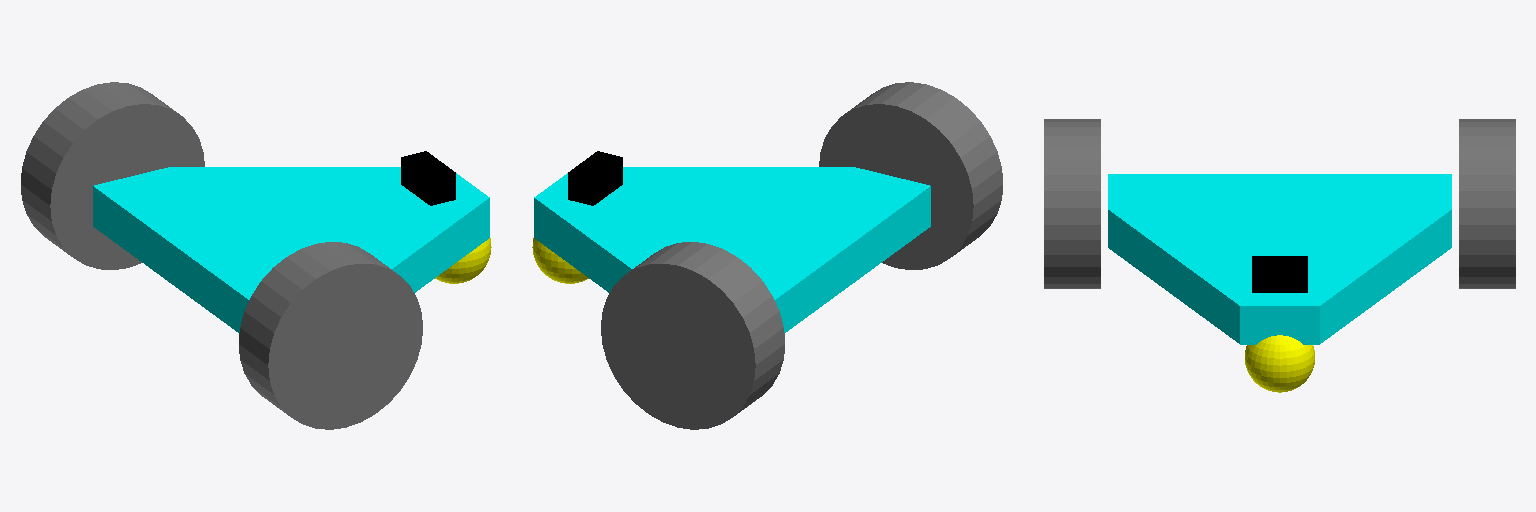
The robot description file, URDF, robot "qbot":
<?xml version="1.0"?>
<robot name="qbot">

  <!-- Define robot constants -->
  <!-- x-axis points forward, y-axis points to left, z-axis points upwards -->

  <!-- Robot Base -->
  <link name="base_link">
    <visual>
      <origin xyz="0 0 0" rpy="0 0 3.1415926"/>
      <geometry>
        <mesh filename="package://qbot_nodes_cpp/meshes/rover_base.stl" scale=".0254 .0254 .0254"/>
      </geometry>
      <material name="Cyan">
        <color rgba="0 1.0 1.0 1.0"/>
      </material>
    </visual>
  </link>

  <!-- Robot Footprint -->
  <link name="base_footprint"/>

  <joint name="base_joint" type="fixed">
    <parent link="base_link"/>
    <child link="base_footprint"/>
    <origin xyz="0.0 0.0 -.0508" rpy="0 0 0"/>
  </joint>

  <!-- Left Wheel -->
  <link name="drivewhl_l_link">
    <visual>
      <origin xyz="0 0 0" rpy="1.5708 0 0"/>
      <geometry>
          <cylinder radius=".0762" length=".0508"/>
      </geometry>
      <material name="Gray">
        <color rgba="0.5 0.5 0.5 1.0"/>
      </material>
    </visual>
  </link>

  <joint name="drivewhl_l_joint" type="continuous">
    <parent link="base_link"/>
    <child link="drivewhl_l_link"/>
    <origin xyz="-.0762 .1857 .0254" rpy="0 0 0"/>
    <axis xyz="0 1 0"/>
  </joint>

    <!-- Right Wheel -->
  <link name="drivewhl_r_link">
    <visual>
      <origin xyz="0 0 0" rpy="1.5708 0 0"/>
      <geometry>
          <cylinder radius=".0762" length=".0508"/>
      </geometry>
      <material name="Gray">
        <color rgba="0.5 0.5 0.5 1.0"/>
      </material>
    </visual>
  </link>

  <joint name="drivewhl_r_joint" type="continuous">
    <parent link="base_link"/>
    <child link="drivewhl_r_link"/>
    <origin xyz="-.0762 -.1857 .0254" rpy="0 0 0"/>
    <axis xyz="0 1 0"/>
  </joint>

  <!-- Caster Wheel -->
  <link name="front_caster">
    <visual>
      <geometry>
        <sphere radius=".0318"/>
      </geometry>
      <material name="Yellow">
        <color rgba="1.0 1.0 0 1.0"/>
      </material>
    </visual>
  </link>

  <joint name="caster_joint" type="fixed">
    <parent link="base_link"/>
    <child link="front_caster"/>
    <origin xyz=".1524 0.0 -.0191" rpy="0 0 0"/>
  </joint>

  <link name="base_laser">
    <visual>
      <geometry>
        <box size=".0254 .0508 .0254"/>
      </geometry>
      <origin xyz="0.0 0 0.0" rpy="0 0 0"/>
      <material name="black">
        <color rgba="0 0 0 1"/>
      </material>
    </visual>
  </link>
     
  <joint name="base_to_laser" type="fixed">
    <parent link="base_link"/>
    <child link="base_laser"/>
    <origin xyz=".127 0 .0508" rpy="0 0 0"/>
  </joint>

</robot>

--- What the picture shows (computed from the rendered views, not written in the file) ---
Views: 3 orthographic renders of the robot side by side, from view 1: azimuth 30°, elevation 25°; view 2: azimuth 150°, elevation 25°; view 3: azimuth 270°, elevation 25°.
Model qbot with 6 links and 5 joints (2 continuous, 3 fixed), rooted at base_link, posed all joints at 0.
Visible links, largest first — view 1: base_link, drivewhl_r_link, drivewhl_l_link, base_laser, front_caster; view 2: base_link, drivewhl_l_link, drivewhl_r_link, base_laser, front_caster; view 3: base_link, drivewhl_l_link, drivewhl_r_link, front_caster, base_laser.
Boxes of the visible links, x1,y1,x2,y2 form: base_link: (93, 167, 489, 332); drivewhl_r_link: (239, 242, 422, 429); drivewhl_l_link: (21, 82, 204, 269); base_laser: (401, 151, 455, 205); front_caster: (435, 238, 491, 283); base_link: (534, 167, 930, 332); drivewhl_l_link: (601, 242, 784, 429); drivewhl_r_link: (819, 82, 1002, 269); base_laser: (568, 151, 622, 205); front_caster: (532, 238, 588, 283); base_link: (1108, 174, 1451, 344); drivewhl_l_link: (1459, 119, 1515, 288); drivewhl_r_link: (1044, 119, 1100, 288); front_caster: (1245, 335, 1314, 392); base_laser: (1252, 256, 1307, 292).
Size in the robot's own frame: 0.3366 by 0.4222 by 0.1525 metres.
1 mesh visuals loaded from 1 distinct referenced files (1 binary STL).